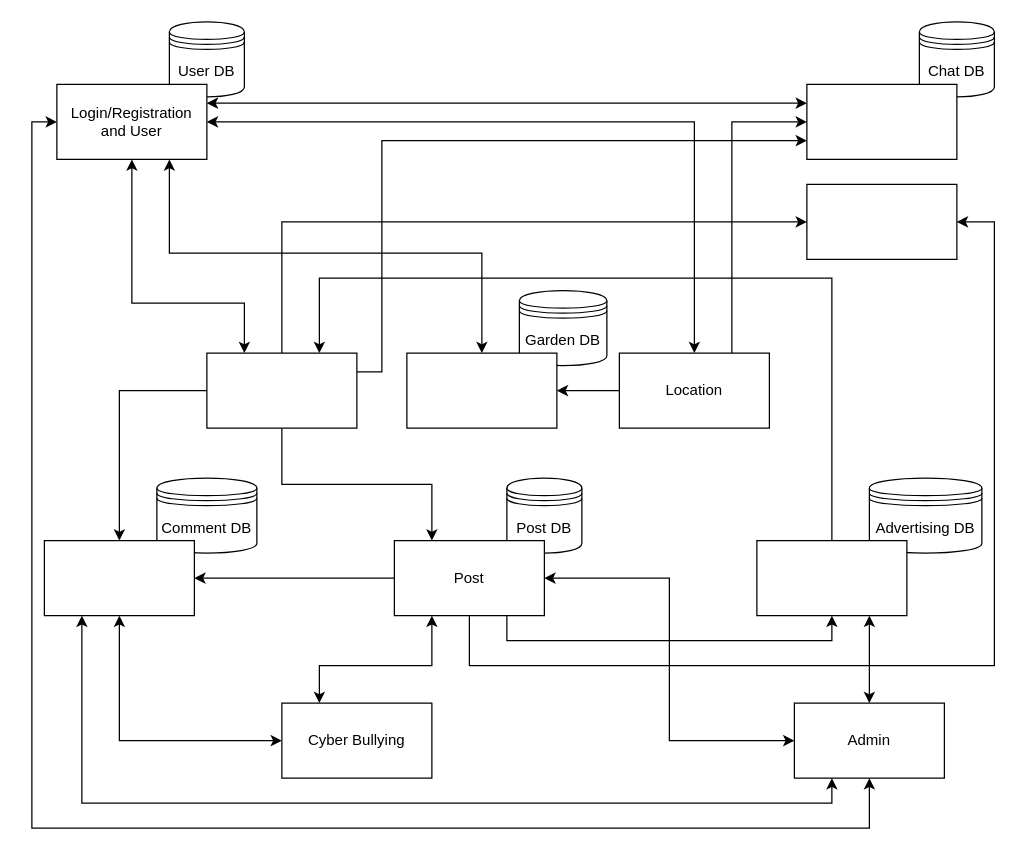
Image size: 1026x861. Some labels were removed from this diagram. Each missing label, with the centre of its shape:
"Advertising" goes at [831,577].
"Chat" goes at [881,121].
"Comment" goes at [118,577].
"Garden" goes at [481,390].
"Newsfeed" goes at [281,390].
"Notifications" goes at [881,221].
